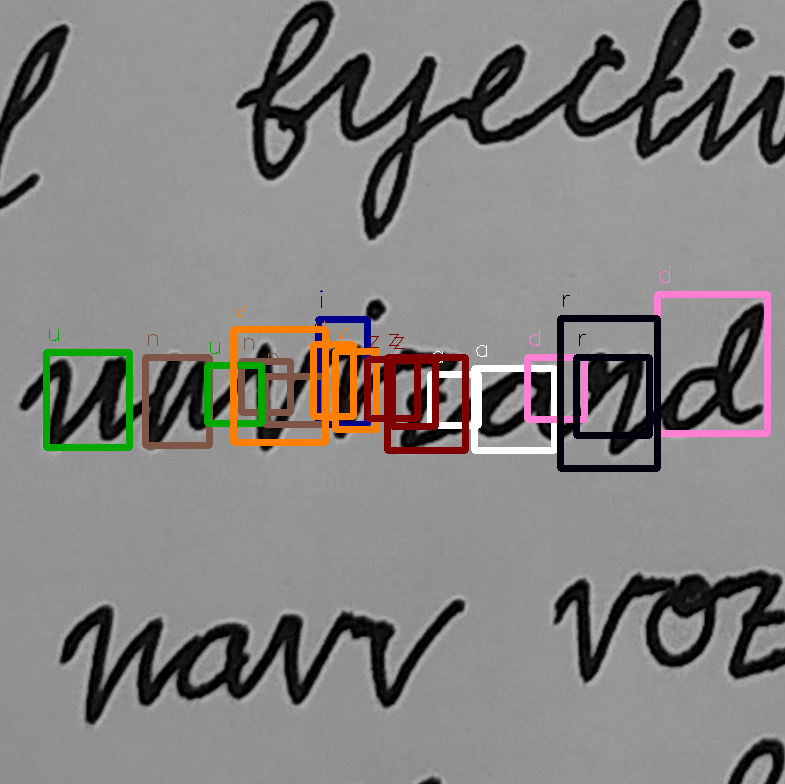a: (470, 357, 565, 450)
d: (656, 299, 770, 439)
i: (326, 295, 388, 443)
n: (137, 346, 214, 457)
r: (575, 346, 651, 459)
u: (36, 349, 132, 455)
v: (240, 336, 323, 455)
z: (390, 343, 465, 455)
